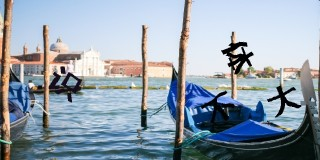不: (199, 90, 234, 124)
体: (221, 41, 254, 75)
大: (267, 85, 302, 115)
识: (49, 66, 82, 102)
